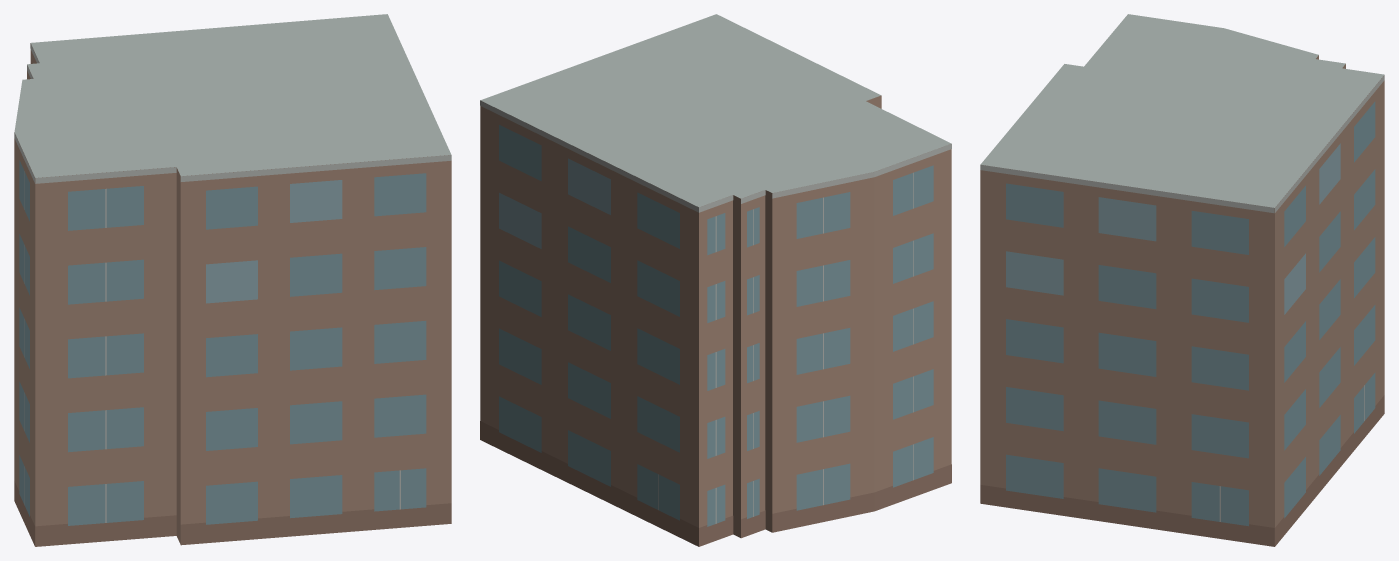
The model's file is survey-upis-32994111.glb.
3 views of the same model, side by side, from view 1: azimuth 30°, elevation 25°; view 2: azimuth 150°, elevation 25°; view 3: azimuth 270°, elevation 25° (orthographic). The views are drawn at different scales.
Visible parts, largest first — view 1: survey-upis-32994111.tmp; view 2: survey-upis-32994111.tmp; view 3: survey-upis-32994111.tmp.
Boxes of the visible parts, bbox=[...] form: survey-upis-32994111.tmp: bbox=[14, 14, 451, 546]; survey-upis-32994111.tmp: bbox=[480, 14, 951, 546]; survey-upis-32994111.tmp: bbox=[980, 14, 1384, 546].
Bounding box in the file's own units: 18.72 × 15.25 × 16.49.
